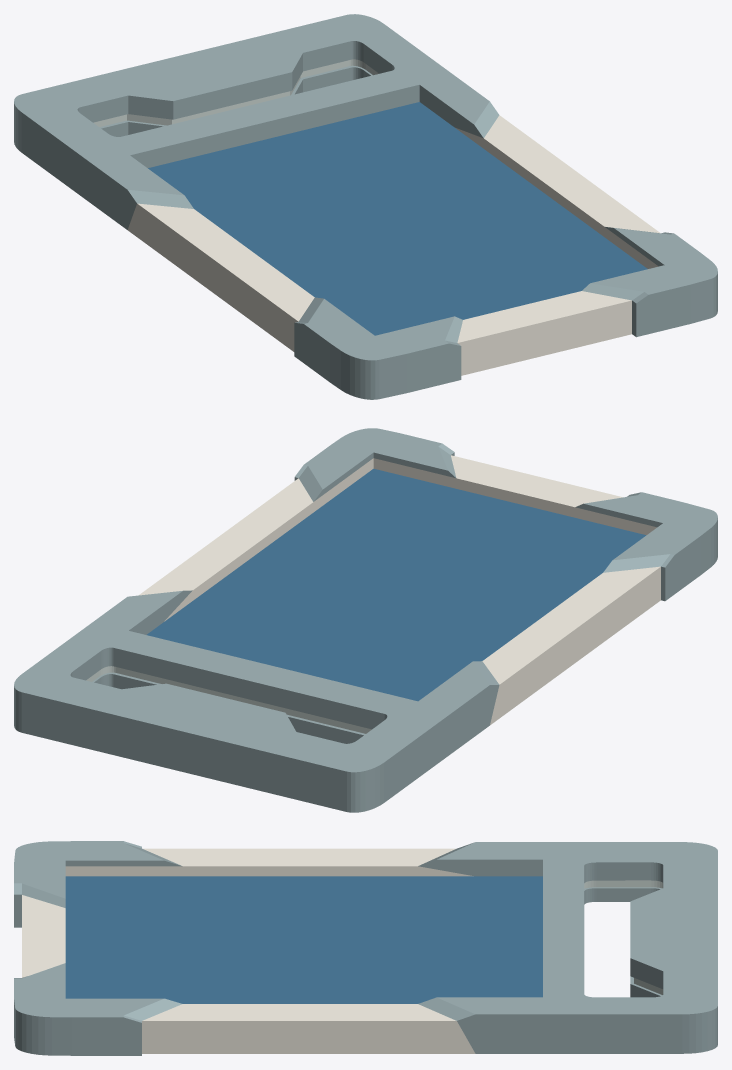
File: Tablet.fbx
3 renders of one model, top to bottom at view 1: azimuth 30°, elevation 25°; view 2: azimuth 150°, elevation 25°; view 3: azimuth 270°, elevation 25°, orthographic. The views are drawn at different scales.
Parts seen in each view (by area): view 1: Tablet; view 2: Tablet; view 3: Tablet.
Boxes of the visible parts, box(x1,y1,x2,y2) form: Tablet: box(14, 14, 717, 399); Tablet: box(14, 428, 717, 812); Tablet: box(14, 841, 717, 1055).
Size of the model in its own units: 73.31 by 7.66 by 124.
